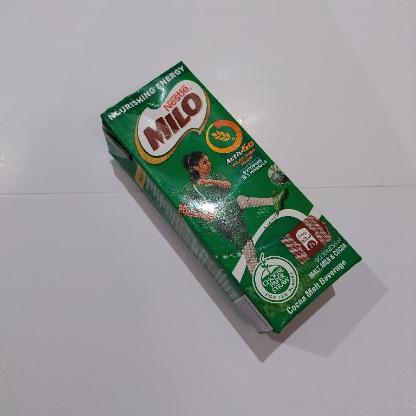Others: (102, 62, 361, 332)
